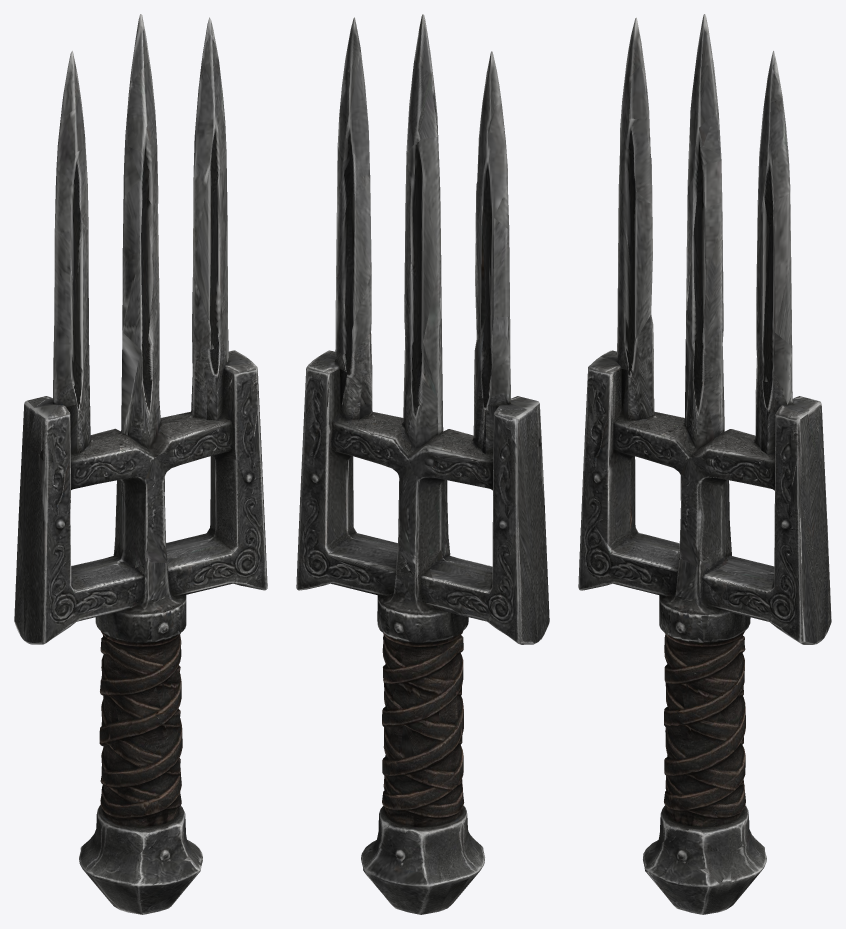
Rendered from fist_2.glb.
The picture shows the model from 3 angles, left to right: view 1: azimuth 30°, elevation 25°; view 2: azimuth 150°, elevation 25°; view 3: azimuth 330°, elevation 25°; orthographic projection.
Visible parts, largest first — view 1: fist_2; view 2: fist_2; view 3: fist_2.
Boxes of the visible parts, left/top/right/bottom form: fist_2: left=14, top=14, right=267, bottom=914; fist_2: left=296, top=14, right=549, bottom=914; fist_2: left=578, top=14, right=831, bottom=914.
Bounding box in the file's own units: 0.096 × 0.351 × 0.0447.
1 material, 1 textured.
